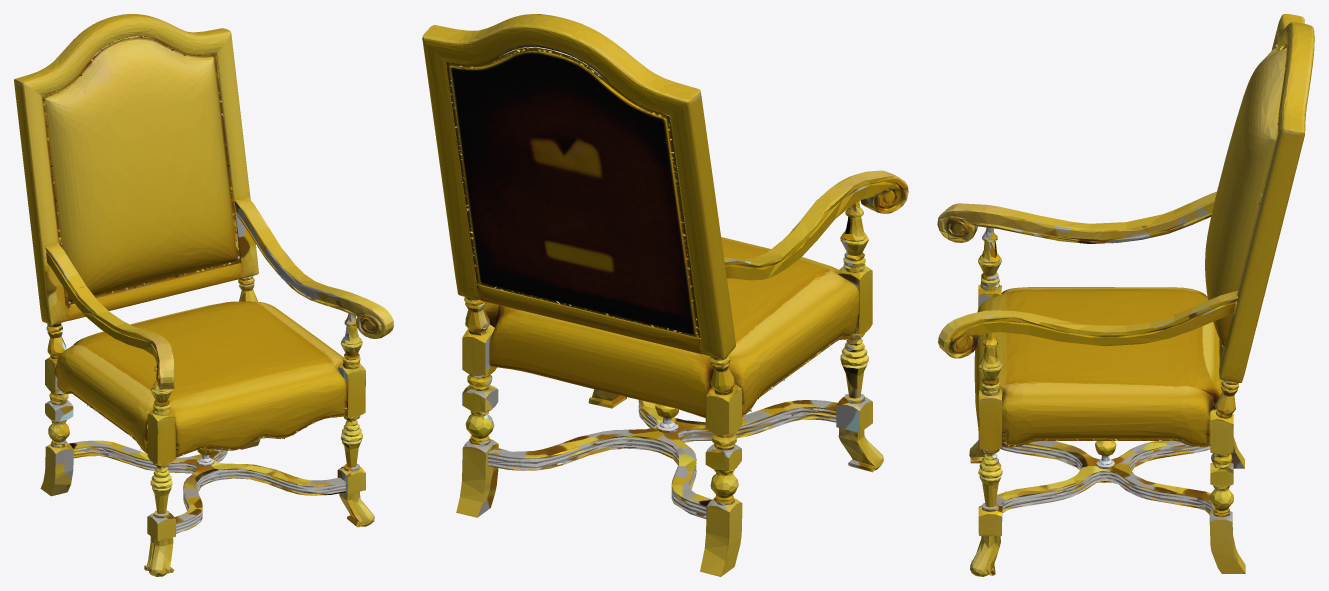
Rendered from edited_mesh.glb.
The picture shows the model from 3 angles, left to right: view 1: azimuth 30°, elevation 25°; view 2: azimuth 150°, elevation 25°; view 3: azimuth 270°, elevation 25°; orthographic projection. The views are drawn at different scales.
Visible parts, largest first — view 1: solid_001_wire; view 2: solid_001_wire; view 3: solid_001_wire.
Boxes of the visible parts, x1=… form: solid_001_wire: x1=14, y1=14, x2=393, y2=576; solid_001_wire: x1=422, y1=14, x2=908, y2=576; solid_001_wire: x1=937, y1=14, x2=1314, y2=576.
Bounding box in the file's own units: 0.8481 × 1.48 × 1.04.
Materials: 1 (1 with a texture image).
